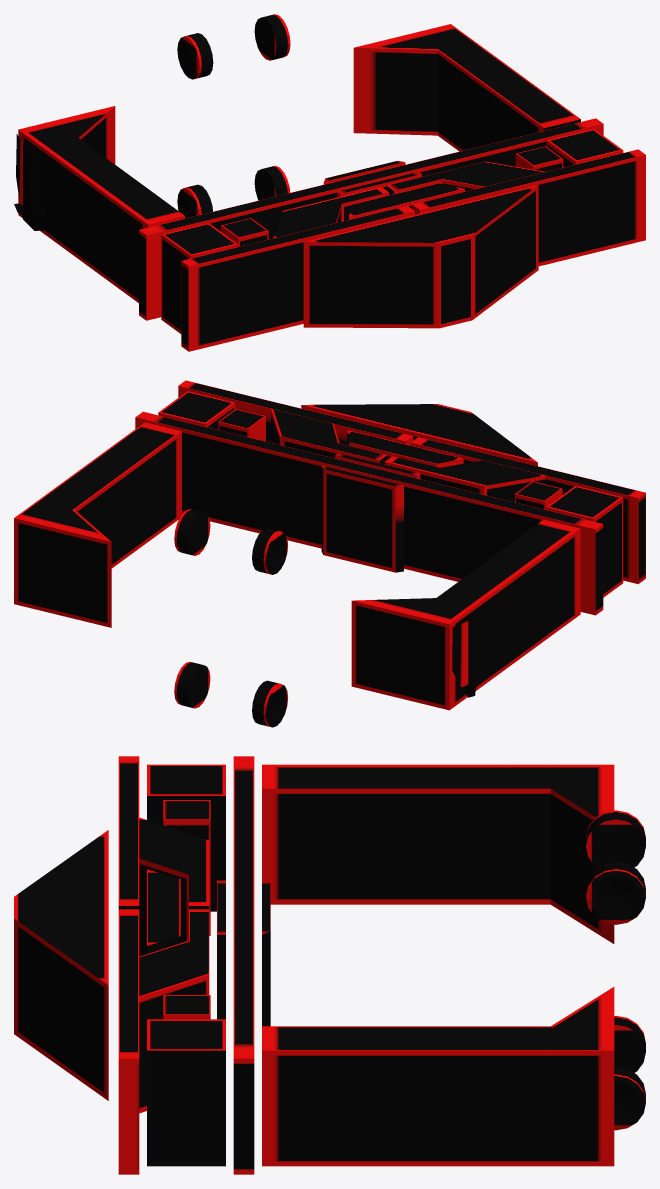
File: recognizerwheeled_wtf.obj
The picture shows the model from 3 angles, top to bottom: view 1: azimuth 30°, elevation 25°; view 2: azimuth 150°, elevation 25°; view 3: azimuth 270°, elevation 25°; orthographic projection. The views are drawn at different scales.
Parts seen in each view (by area): view 1: group22, group6, group11, group17, group18, group14, group16, group9, group21, group1, group7, group12 (+8 smaller); view 2: group14, group11, group6, group13, group22, group17, group16, group21, group18, group9, group7, group1 (+8 smaller); view 3: group6, group11, group22, group7, group14, group18, group9, group21, group16, group17, group5, group3 (+7 smaller).
Part boxes in pixels (x1,y1,x2,y2): group22: (303, 185, 538, 328); group6: (353, 24, 580, 151); group11: (18, 106, 184, 302); group17: (181, 205, 414, 351); group18: (412, 149, 645, 266); group14: (139, 118, 603, 320); group16: (161, 223, 237, 333); group9: (386, 161, 545, 194); group21: (274, 186, 388, 237); group1: (14, 134, 44, 230); group7: (546, 129, 623, 167); group12: (349, 183, 464, 219); group14: (135, 411, 603, 615); group11: (351, 519, 580, 710); group6: (14, 422, 181, 627); group13: (321, 465, 403, 572); group22: (301, 404, 537, 466); group17: (410, 437, 645, 584); group16: (546, 485, 623, 597); group21: (384, 456, 545, 502); group18: (178, 380, 413, 445); group9: (271, 408, 387, 464); group7: (158, 391, 235, 429); group1: (452, 609, 476, 697); group6: (262, 987, 614, 1166); group11: (262, 764, 614, 943); group22: (14, 830, 108, 1100); group7: (147, 1019, 225, 1166); group14: (233, 756, 254, 1174); group18: (118, 909, 139, 1174); group9: (139, 909, 209, 1113); group21: (139, 817, 209, 956); group16: (147, 764, 225, 911); group17: (118, 756, 139, 909); group5: (586, 861, 645, 924); group3: (586, 810, 645, 867).
Bounding box in the file's own units: 655 × 261 × 576.
